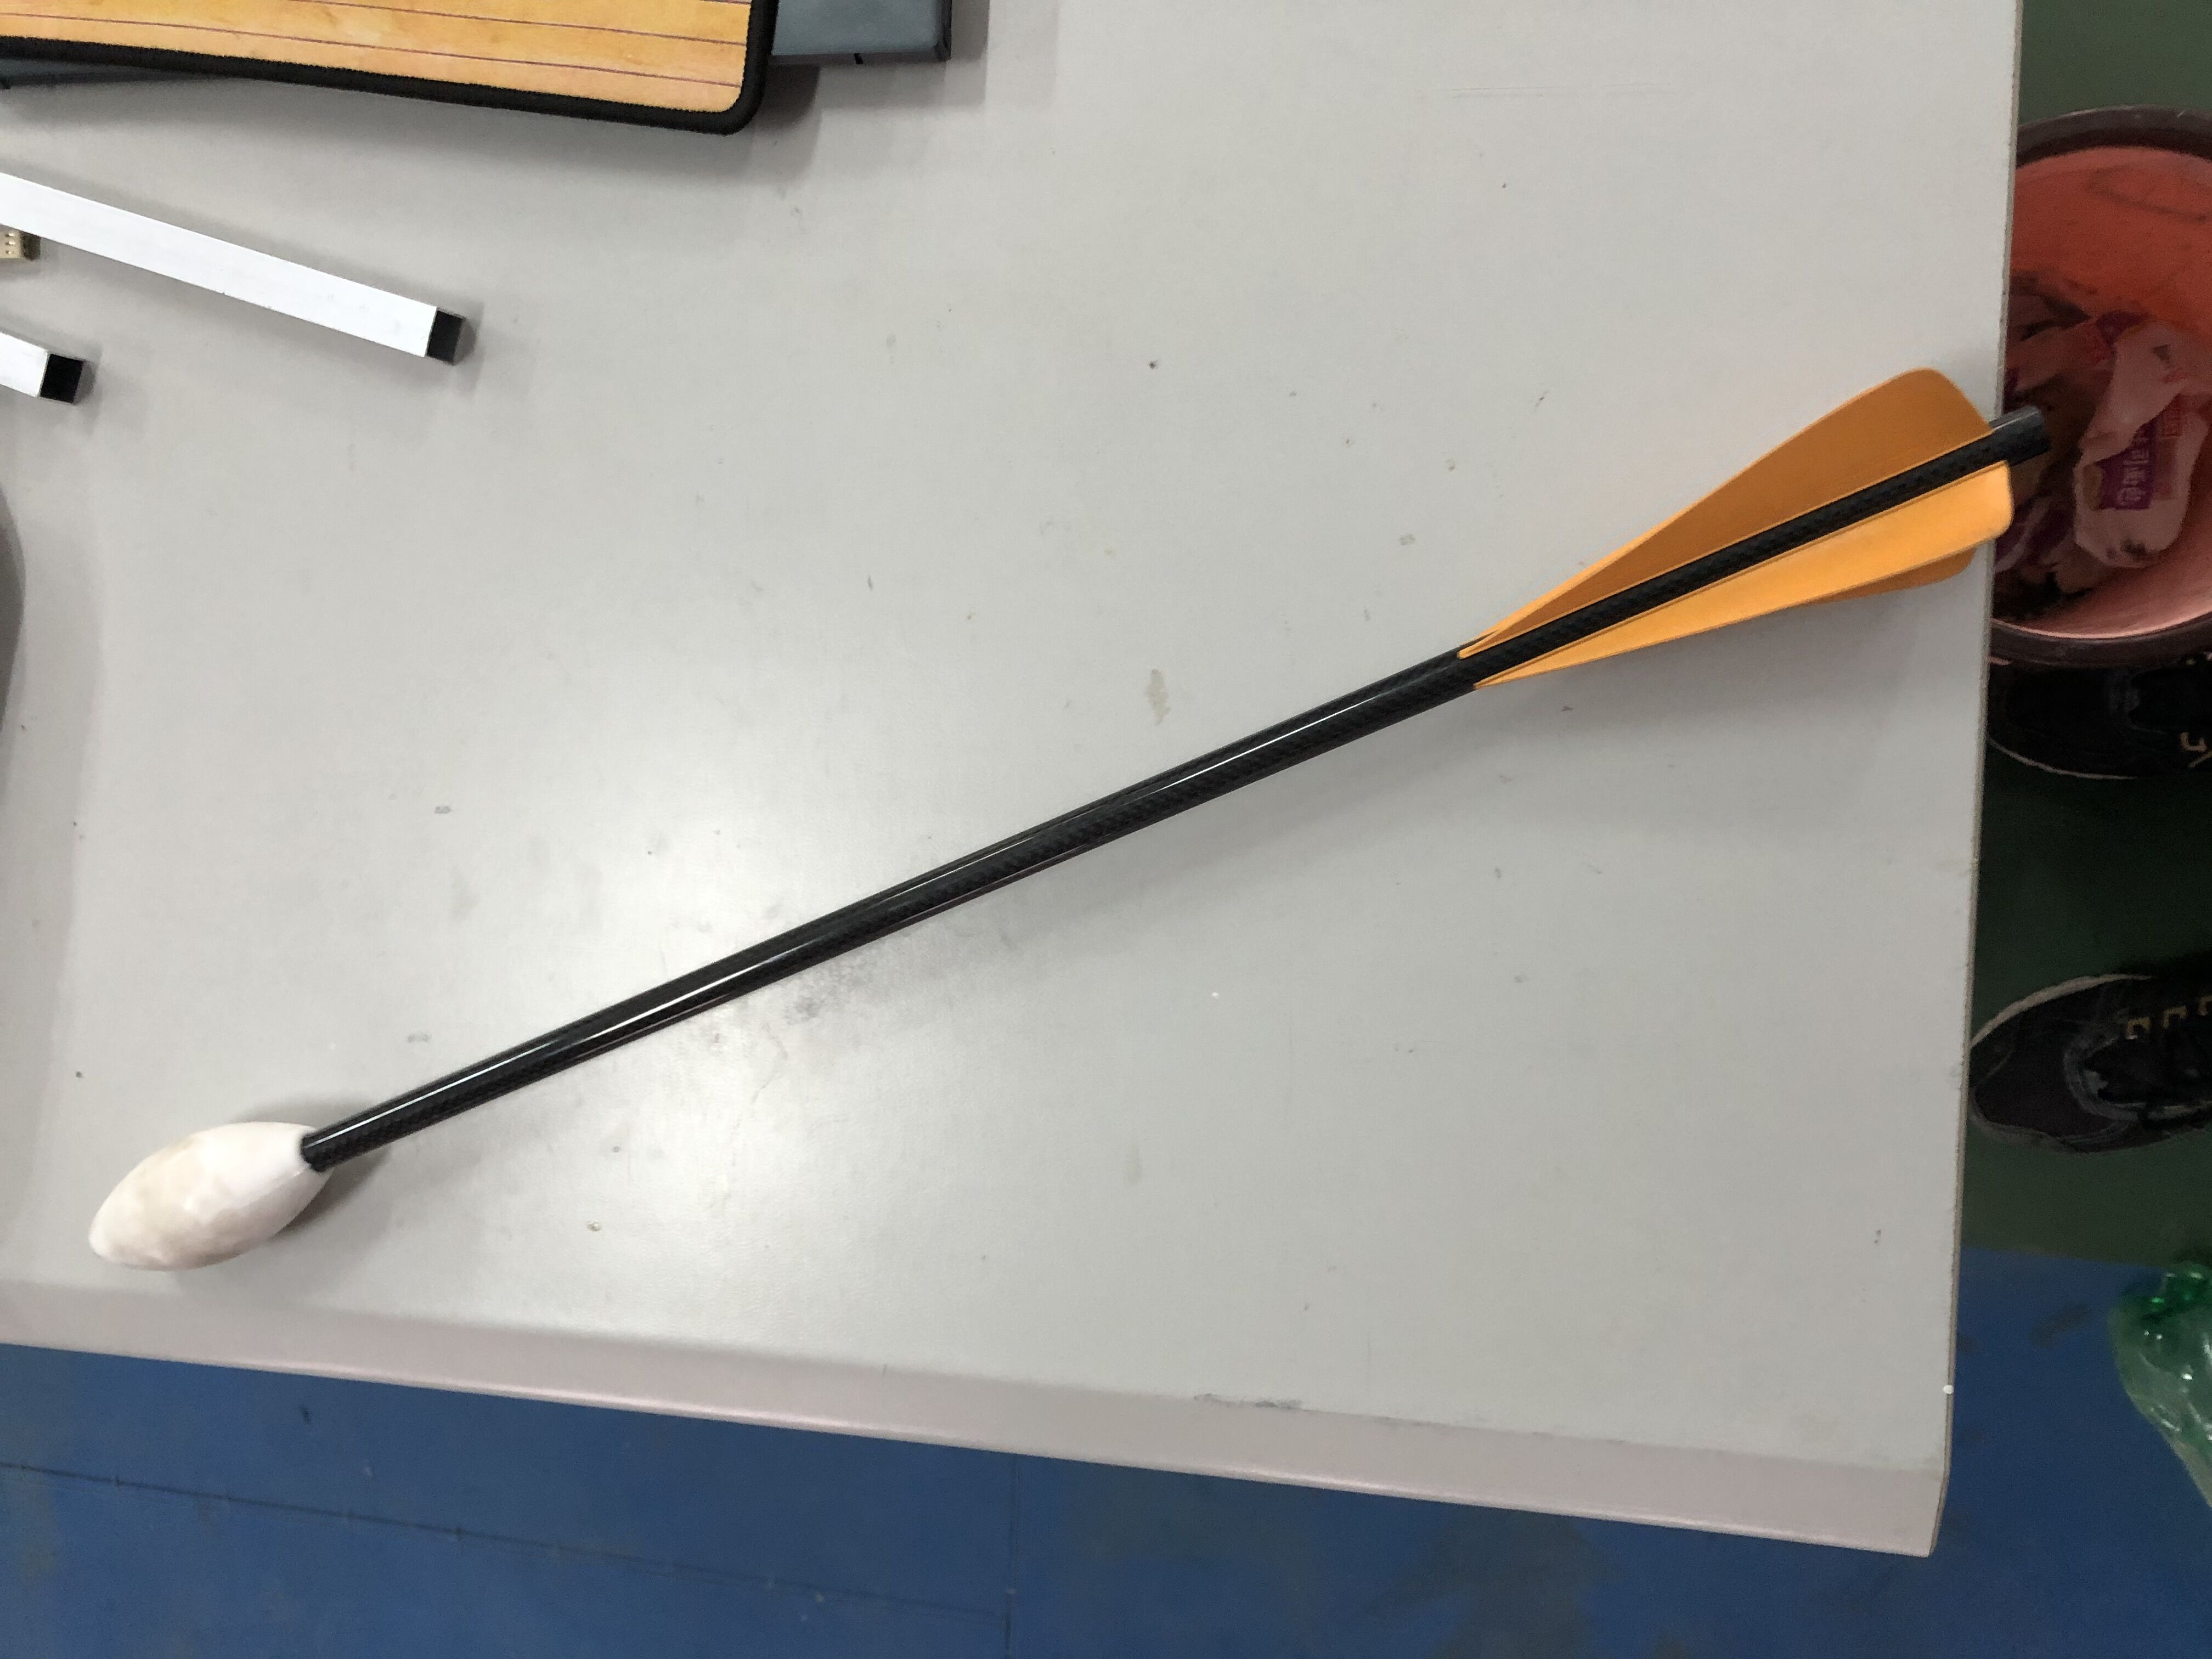arrow: (84, 364, 2054, 1274)
arrowFront: (85, 1108, 348, 1277)
